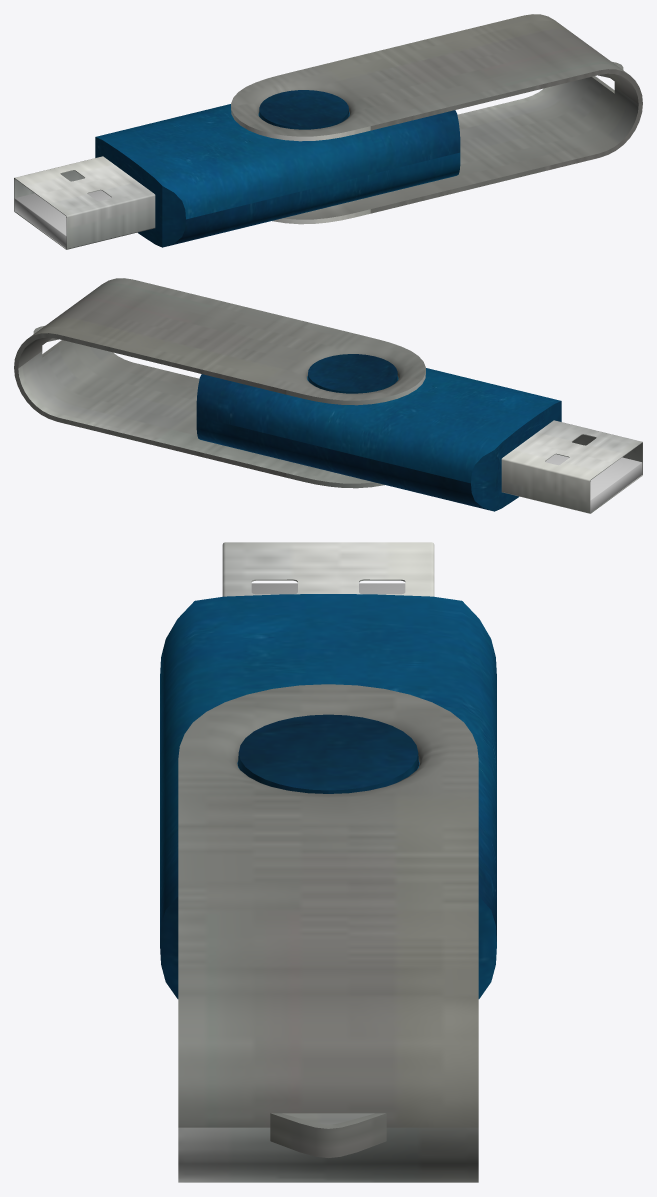
File: usb.obj
3 renders of one model, top to bottom at view 1: azimuth 30°, elevation 25°; view 2: azimuth 150°, elevation 25°; view 3: azimuth 270°, elevation 25°, orthographic. The views are drawn at different scales.
Visible parts, largest first — view 1: protector_Circle.001, cuerpo_usb_Circle.000, lamina_entrada_Circle.002, conector_entrada_Circle.003; view 2: protector_Circle.001, cuerpo_usb_Circle.000, lamina_entrada_Circle.002, conector_entrada_Circle.003; view 3: protector_Circle.001, cuerpo_usb_Circle.000, lamina_entrada_Circle.002, conector_entrada_Circle.003.
Boxes of the visible parts, <box> form: protector_Circle.001: <box>231,14,642,224</box>; cuerpo_usb_Circle.000: <box>95,90,460,247</box>; lamina_entrada_Circle.002: <box>14,156,155,249</box>; conector_entrada_Circle.003: <box>14,190,111,248</box>; protector_Circle.001: <box>14,278,425,488</box>; cuerpo_usb_Circle.000: <box>196,354,561,511</box>; lamina_entrada_Circle.002: <box>501,420,642,513</box>; conector_entrada_Circle.003: <box>545,454,642,512</box>; protector_Circle.001: <box>178,684,478,1182</box>; cuerpo_usb_Circle.000: <box>160,594,496,998</box>; lamina_entrada_Circle.002: <box>222,542,434,596</box>; conector_entrada_Circle.003: <box>251,583,405,594</box>.
Bounding box in the file's own units: 7.44 × 1.07 × 1.87.
Materials: 3 (2 with a texture image).
